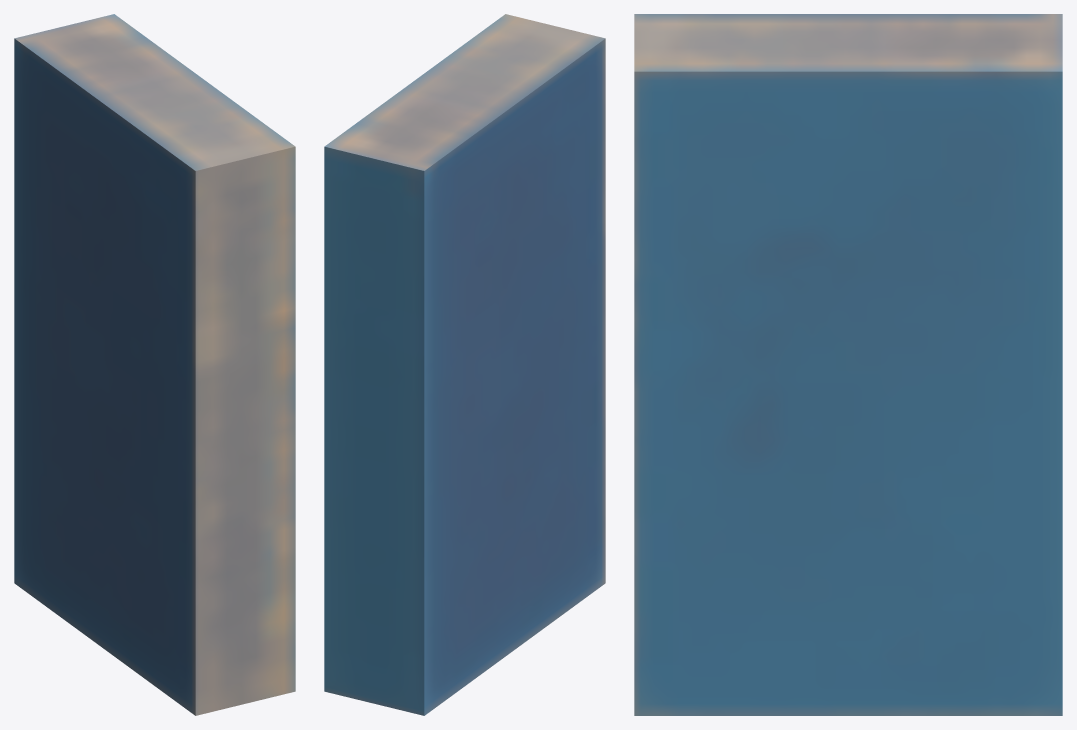
The model's file is Prfb_Indoors_Books.fbx.
3 renders of one model, left to right at view 1: azimuth 30°, elevation 25°; view 2: azimuth 150°, elevation 25°; view 3: azimuth 270°, elevation 25°, orthographic. The views are drawn at different scales.
Visible parts, largest first — view 1: Mat_Indoors_Books_01; view 2: Mat_Indoors_Books_01; view 3: Mat_Indoors_Books_01.
Boxes of the visible parts, <box> form: Mat_Indoors_Books_01: <box>14,14,295,715</box>; Mat_Indoors_Books_01: <box>324,14,605,715</box>; Mat_Indoors_Books_01: <box>634,14,1062,715</box>.
Size of the model in its own units: 0.0639 by 0.3326 by 0.2005.
Materials: 1 (1 with a texture image).
